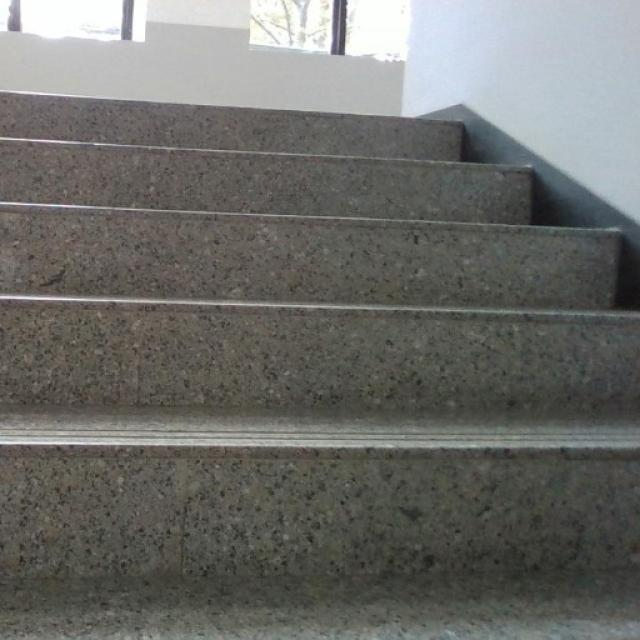stair: (0, 91, 639, 598)
